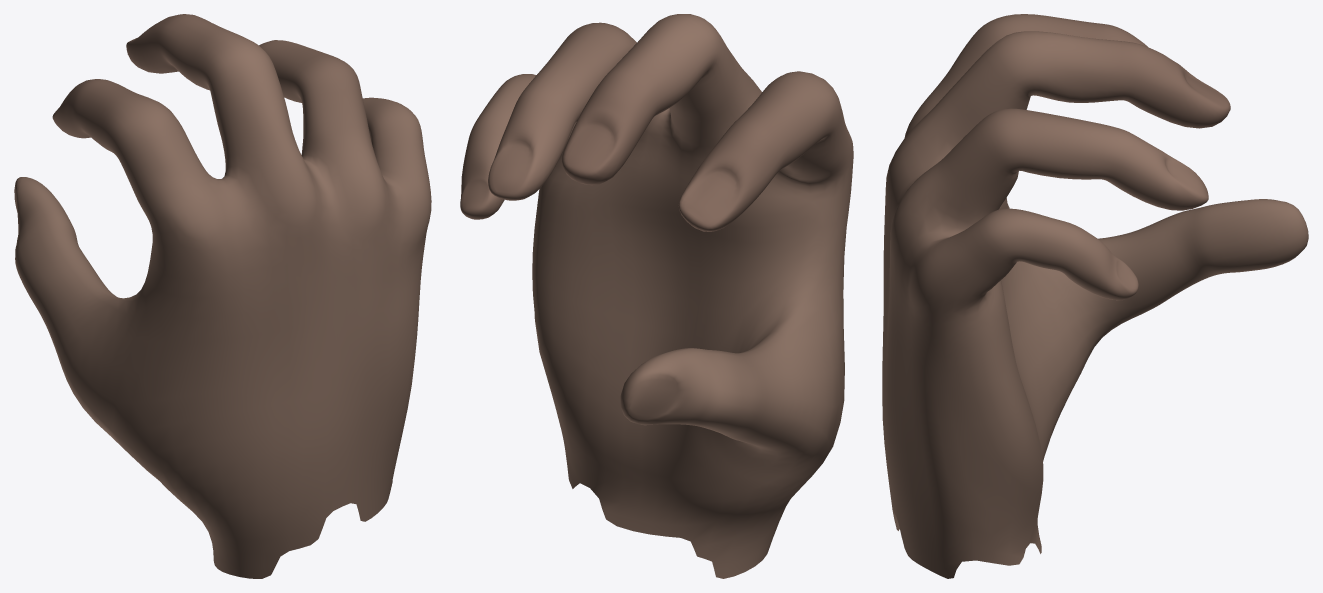
File: player-hand-grip.glb
3 renders of one model, left to right at view 1: azimuth 30°, elevation 25°; view 2: azimuth 150°, elevation 25°; view 3: azimuth 270°, elevation 25°, orthographic. The views are drawn at different scales.
Parts seen in each view (by area): view 1: player-hand-grip.001; view 2: player-hand-grip.001; view 3: player-hand-grip.001.
Boxes of the visible parts, <box> form: player-hand-grip.001: <box>14,14,431,578</box>; player-hand-grip.001: <box>460,14,853,578</box>; player-hand-grip.001: <box>882,14,1308,578</box>.
Size of the model in its own units: 0.0909 by 0.1384 by 0.1006.
